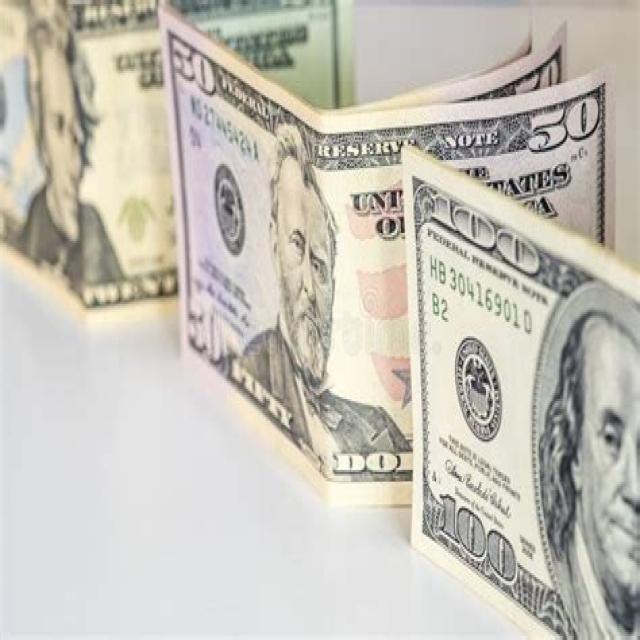banknote: (156, 2, 637, 510), (400, 143, 640, 640), (0, 1, 357, 332), (426, 180, 546, 277), (434, 481, 520, 587), (527, 91, 604, 157), (231, 360, 296, 434), (169, 37, 219, 97), (184, 296, 224, 365)
